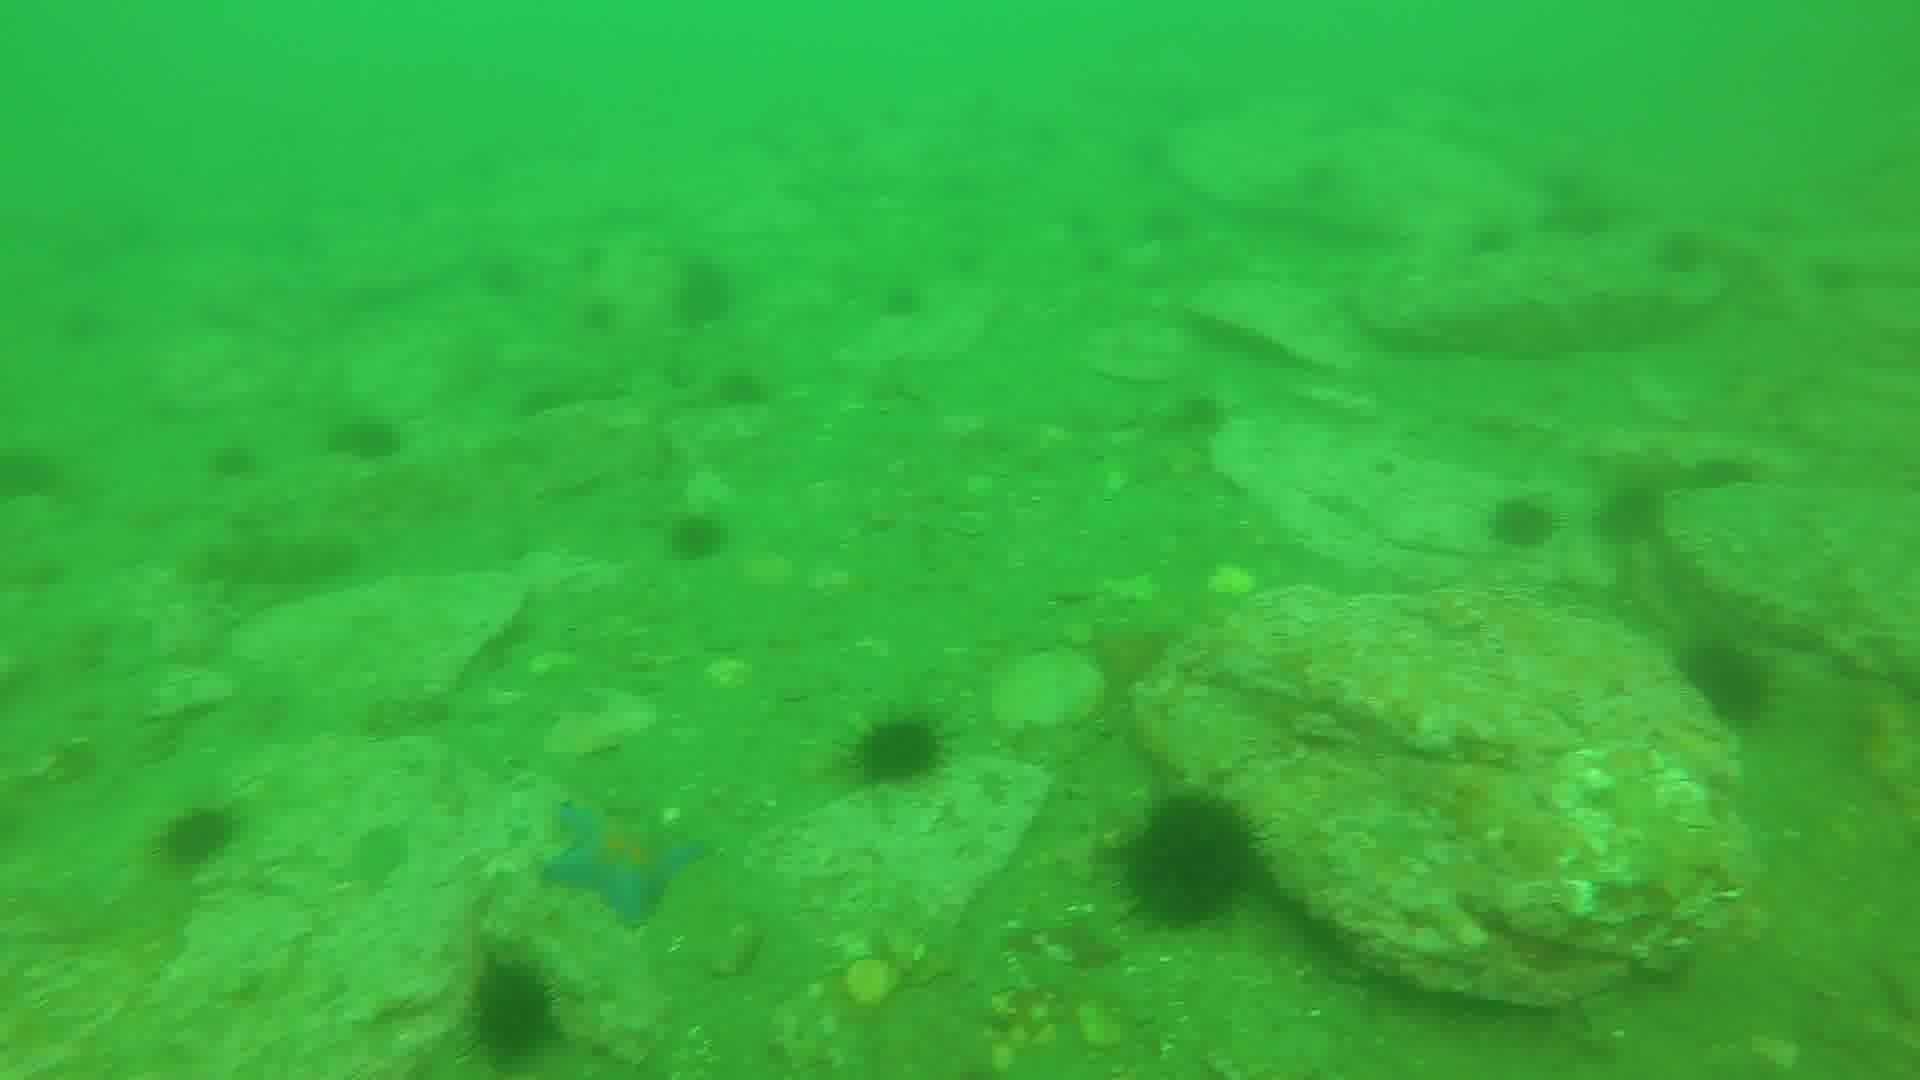echinus: (1116, 790, 1263, 931), (460, 956, 563, 1065), (1673, 636, 1778, 731), (847, 711, 948, 793), (153, 800, 243, 874), (1593, 477, 1671, 551), (1484, 492, 1561, 556), (324, 409, 406, 469), (661, 508, 731, 568), (1168, 388, 1233, 444), (666, 281, 731, 332), (711, 364, 774, 415), (1135, 200, 1197, 252), (203, 436, 262, 487), (1462, 215, 1520, 262), (876, 277, 928, 324), (575, 293, 622, 339), (673, 251, 725, 286)
starfish: (541, 798, 705, 928)
